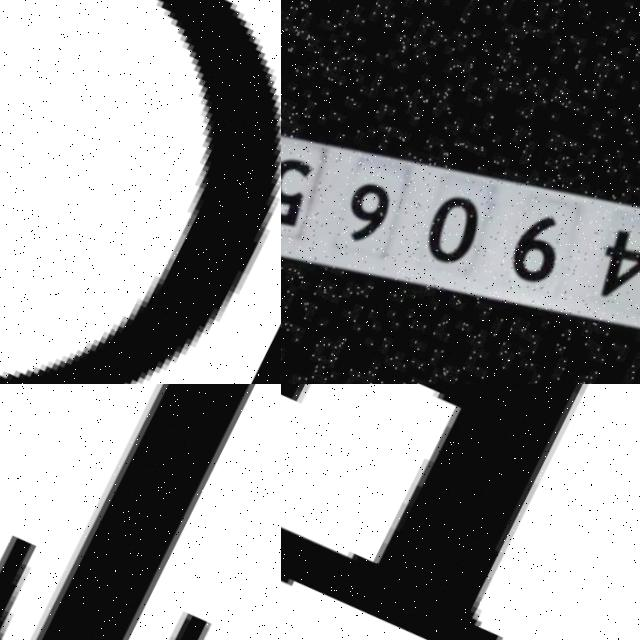0: (396, 174, 510, 305)
4: (564, 209, 640, 348)
5: (281, 133, 342, 261)
6: (317, 162, 420, 280)
9: (482, 196, 593, 324)
E: (281, 384, 585, 640)
G: (0, 0, 281, 384)
T: (0, 384, 281, 640)
